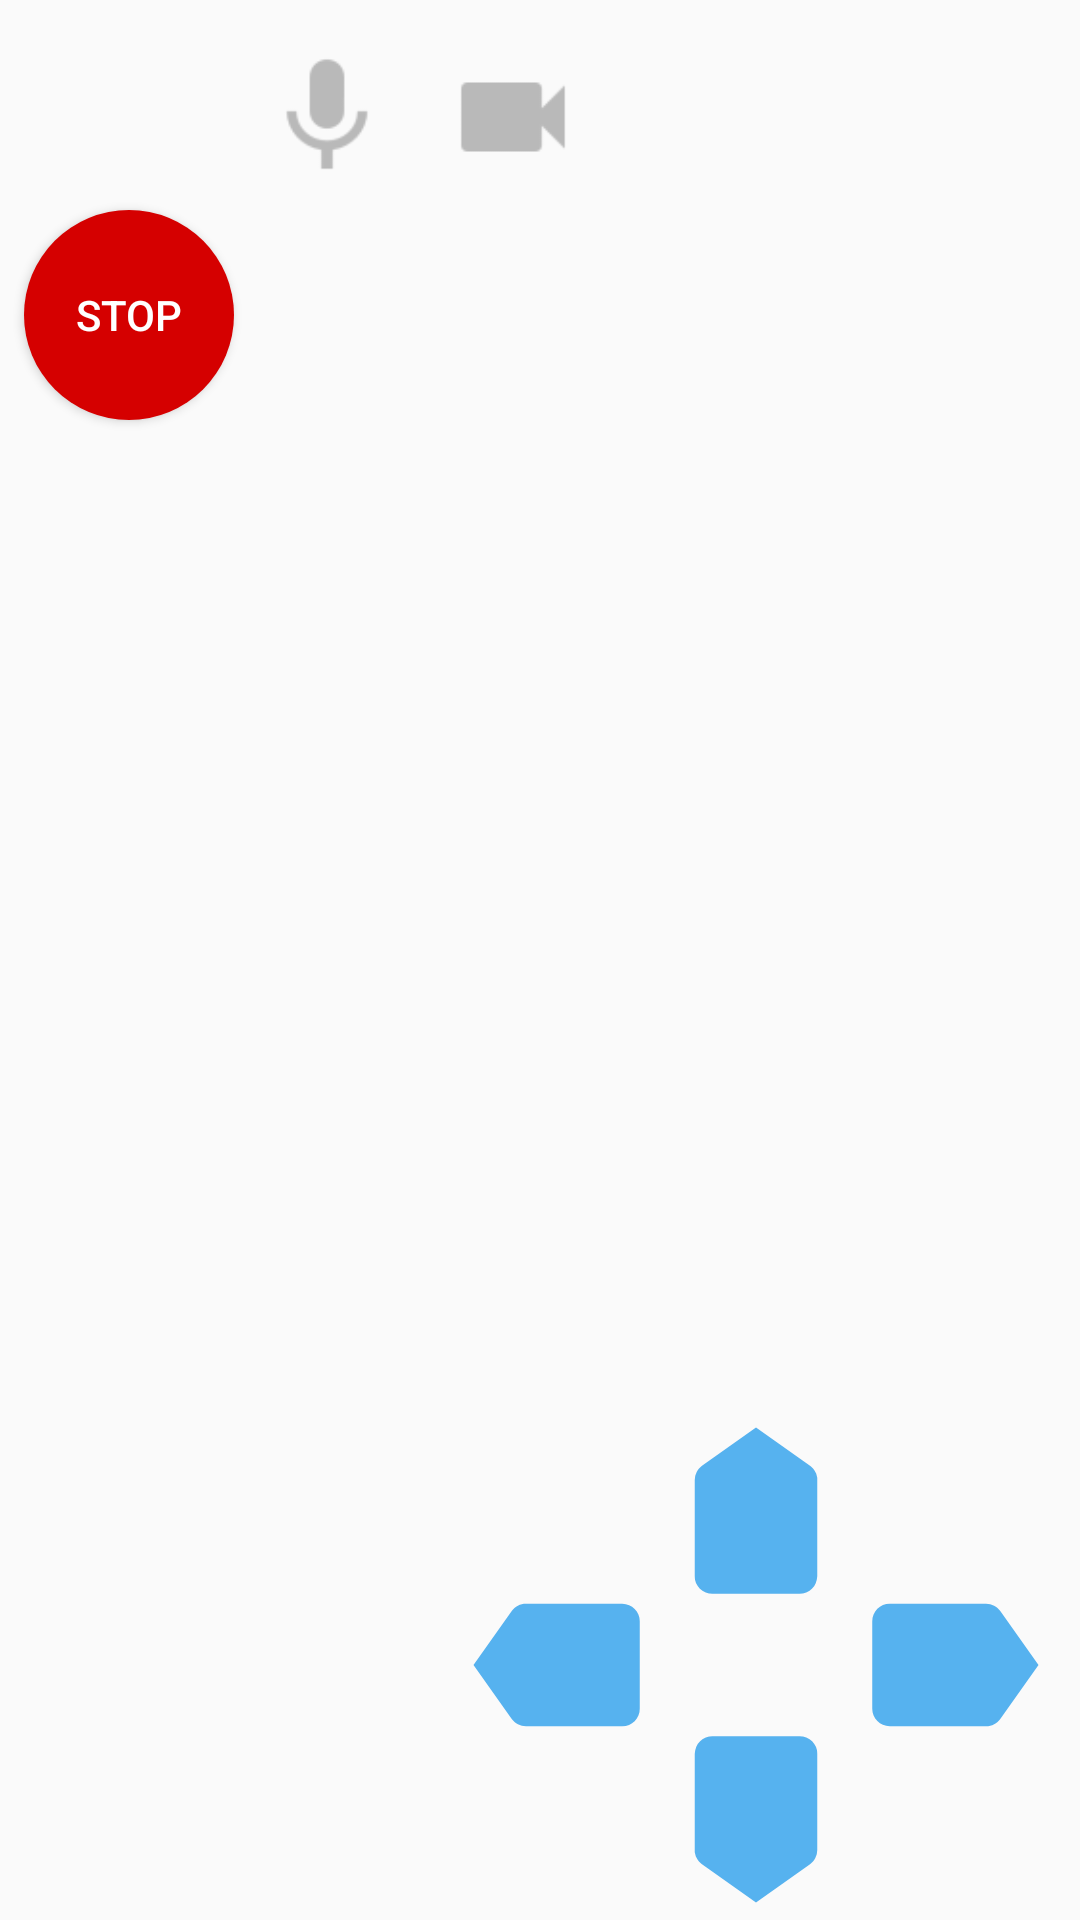

Icons on this 1080px x 1920px Android screen, each with its box as [left=x1, top=y1, right=x2, bottom=y2]:
mic on: [left=287, top=59, right=367, bottom=169]
video on: [left=461, top=82, right=565, bottom=152]
